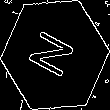N_SE: (27, 26, 83, 84)
